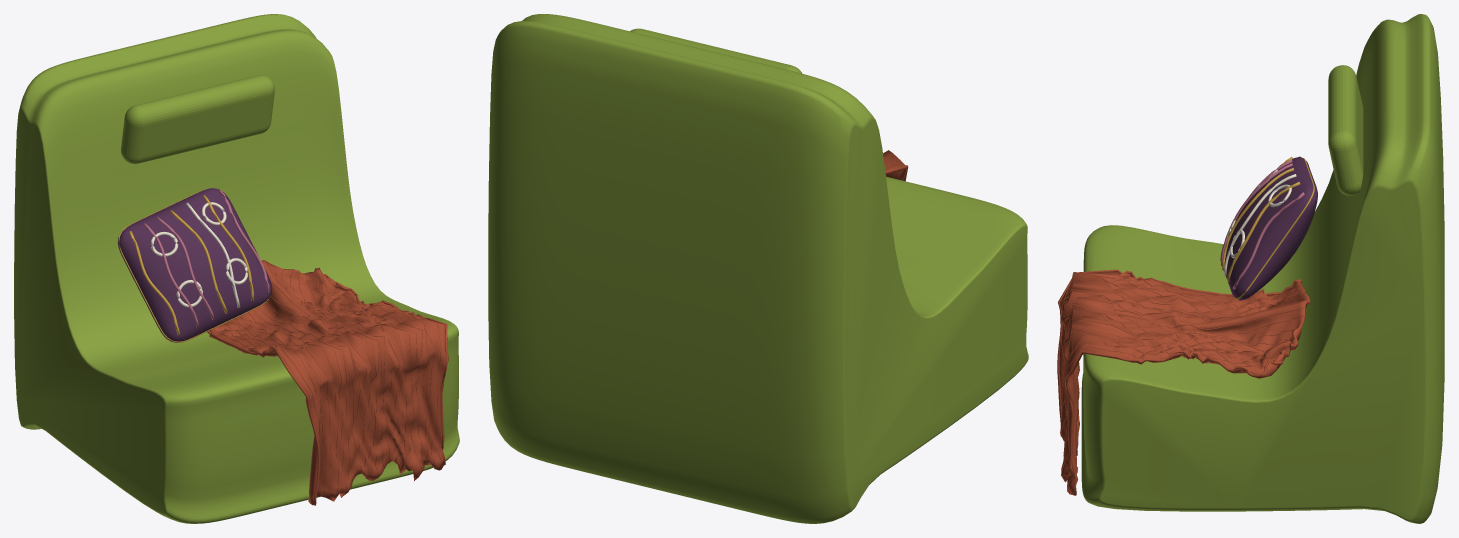
The model's file is numero-high.glb.
The picture shows the model from 3 angles, left to right: view 1: azimuth 30°, elevation 25°; view 2: azimuth 150°, elevation 25°; view 3: azimuth 270°, elevation 25°; orthographic projection. The views are drawn at different scales.
Visible parts, largest first — view 1: numero-high; view 2: numero-high; view 3: numero-high.
Boxes of the visible parts, x1,y1,x2,y2 form: numero-high: (14, 14, 459, 523); numero-high: (488, 14, 1028, 523); numero-high: (1057, 14, 1444, 523).
Size of the model in its own units: 0.762 by 0.8924 by 0.81.
